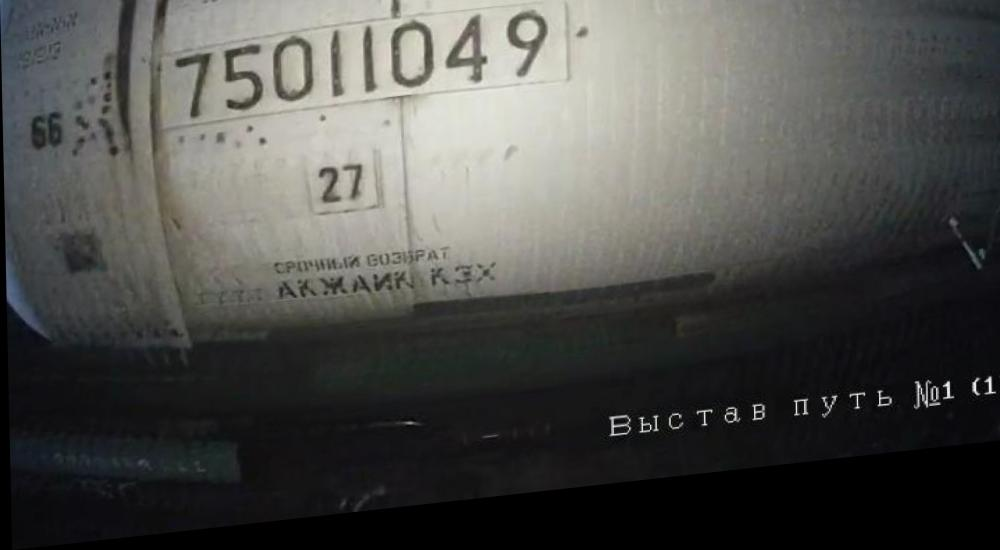Wagon-number: (166, 15, 559, 131)
